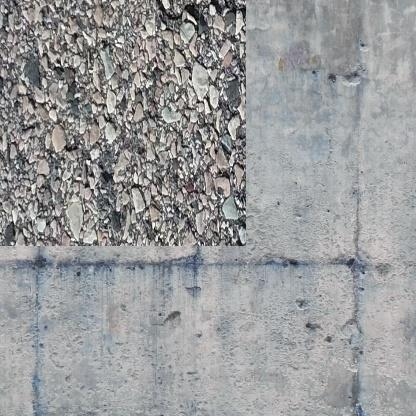Cracks: (139, 0, 227, 38), (160, 41, 174, 57)
